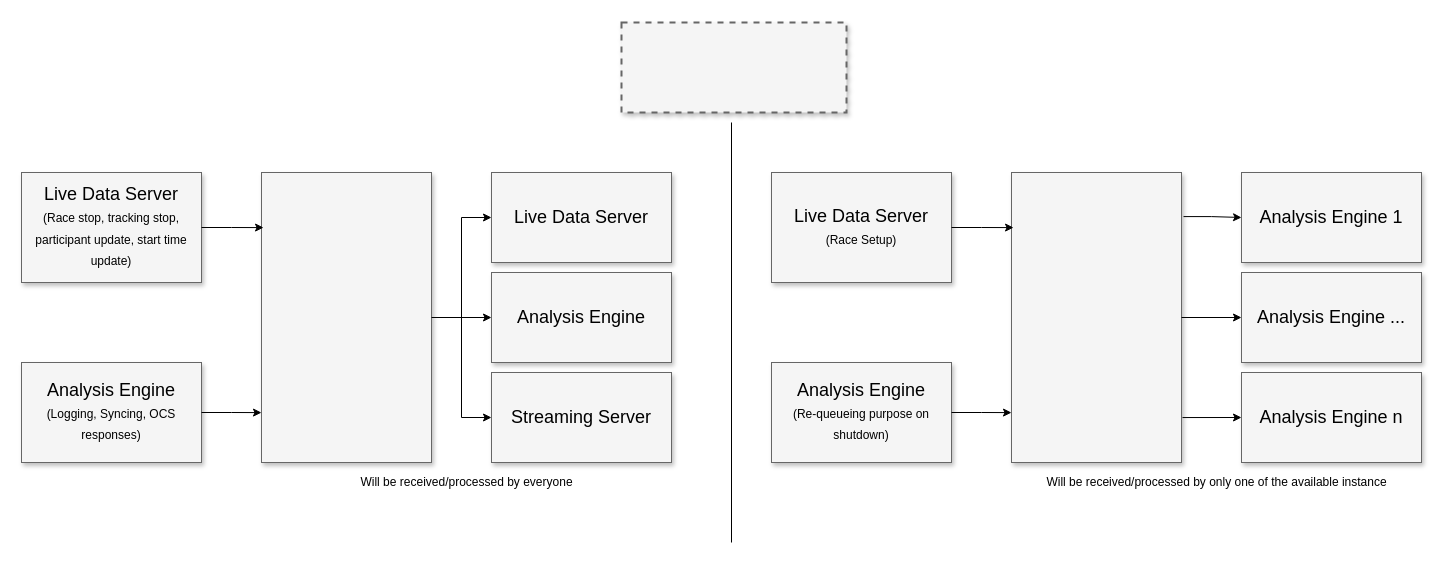
Image size: 1445x561. Some labels were removed from this diagram. Each missing label, with the centre of its shape:
/queue/race.data: (1097,319)
/topic/race.data: (347,319)
Producers/Consumers: (734,68)
